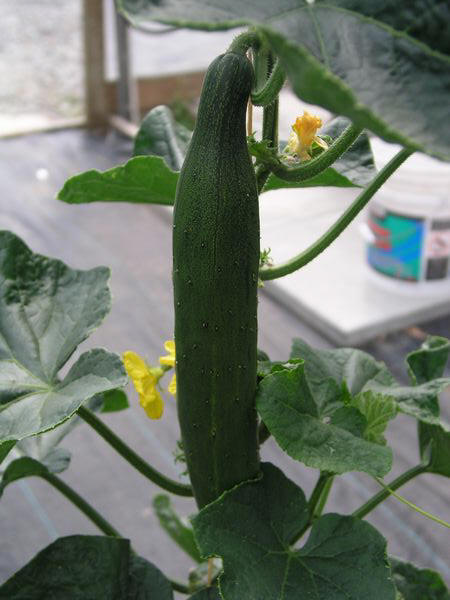cucumber: (166, 48, 264, 517)
